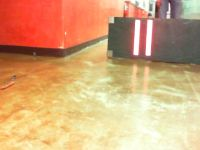switch: (144, 19, 153, 58), (132, 20, 141, 56)
